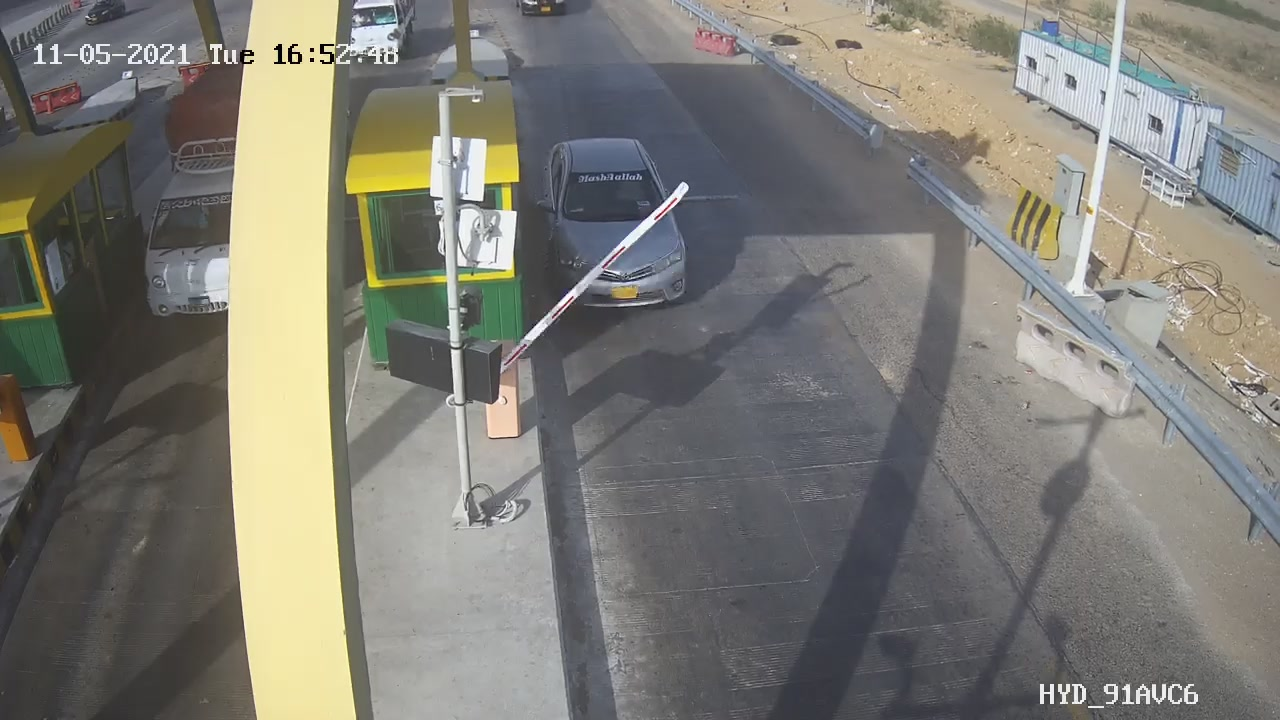F1: (524, 125, 714, 324)
